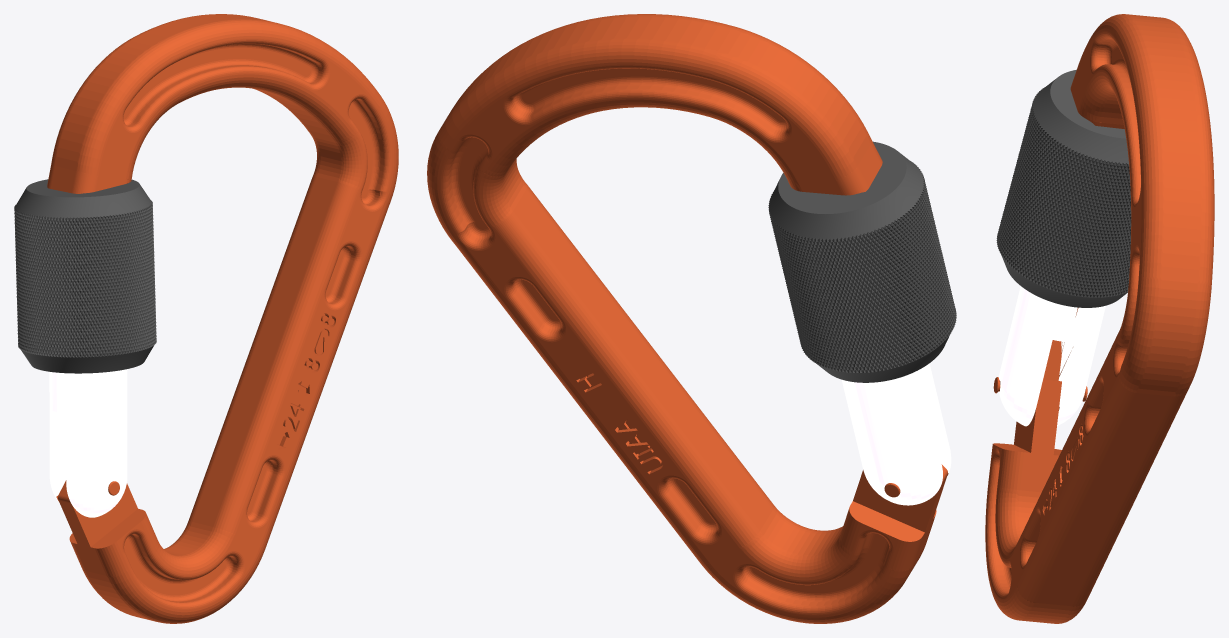
Rendered from carabiner.glb.
The picture shows the model from 3 angles, left to right: view 1: azimuth 30°, elevation 25°; view 2: azimuth 150°, elevation 25°; view 3: azimuth 270°, elevation 25°; orthographic projection. The views are drawn at different scales.
Visible parts, largest first — view 1: uploads_files_98780_final(1), Knurled_Knob.001; view 2: uploads_files_98780_final(1), Knurled_Knob.001; view 3: uploads_files_98780_final(1), Knurled_Knob.001.
Boxes of the visible parts, left/top/right/bottom form: uploads_files_98780_final(1): left=47, top=14, right=398, bottom=623; Knurled_Knob.001: left=14, top=179, right=156, bottom=373; uploads_files_98780_final(1): left=427, top=14, right=951, bottom=623; Knurled_Knob.001: left=768, top=141, right=956, bottom=382; uploads_files_98780_final(1): left=985, top=14, right=1214, bottom=623; Knurled_Knob.001: left=996, top=69, right=1131, bottom=307.
Bounding box in the file's own units: 1.99 × 2.54 × 0.8692.
